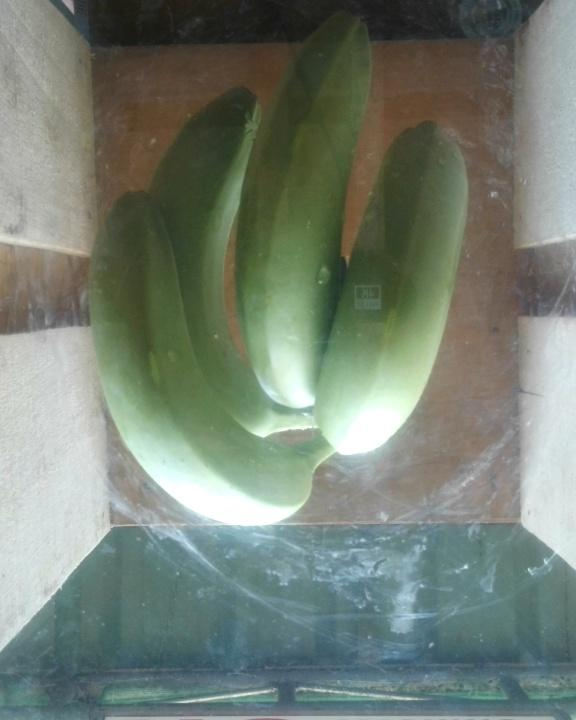SPOT: (83, 9, 494, 533)
